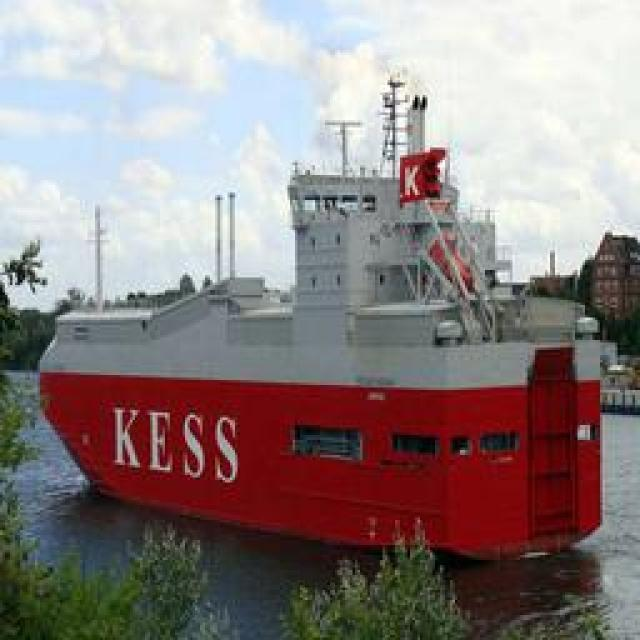ship2: (37, 80, 604, 563)
